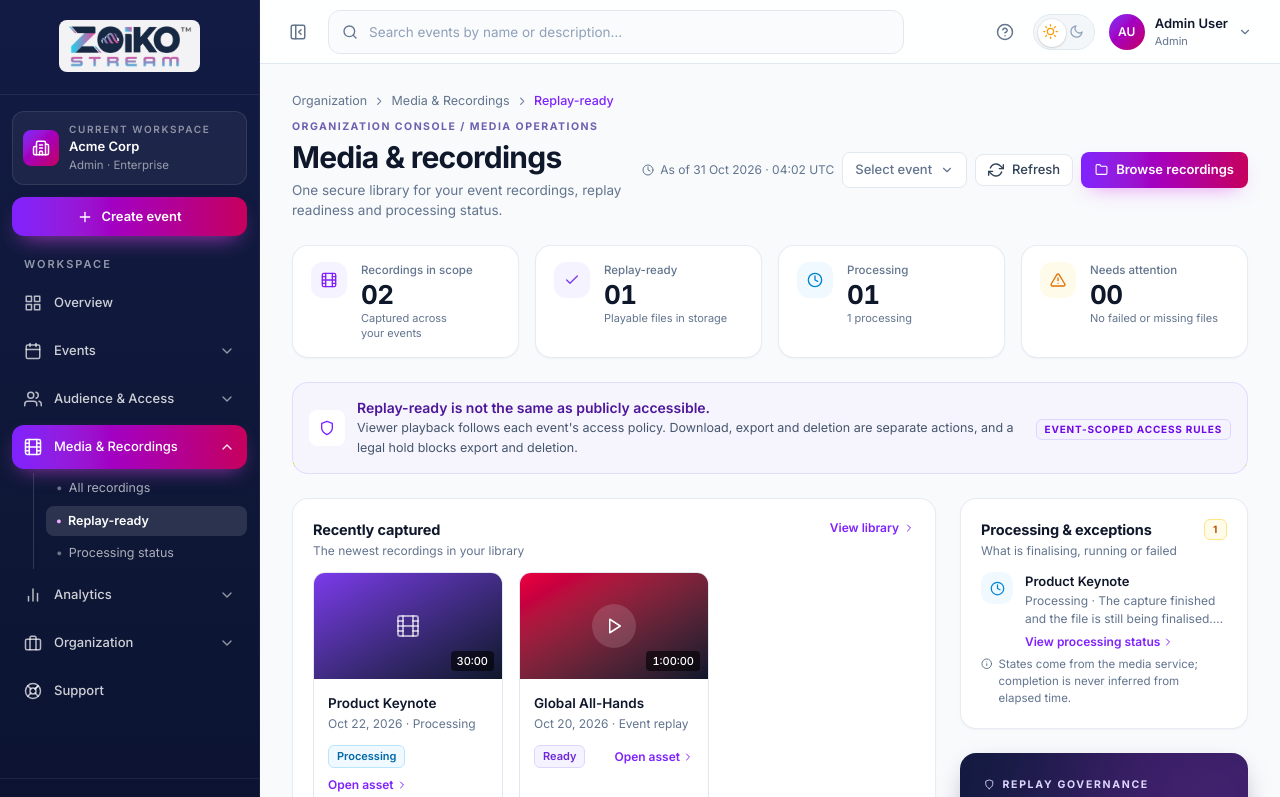
Scenario: Media & Recordings Parent and Child Navigation › clicking breadcrumb Media & Recordings resets view and filters
Expected: the heading "Media & recordings" is shown, [292,138,562,174]
Click the 1st link "Media & Recordings" at (451, 100), box [392,93,510,108]
(page scrolled)
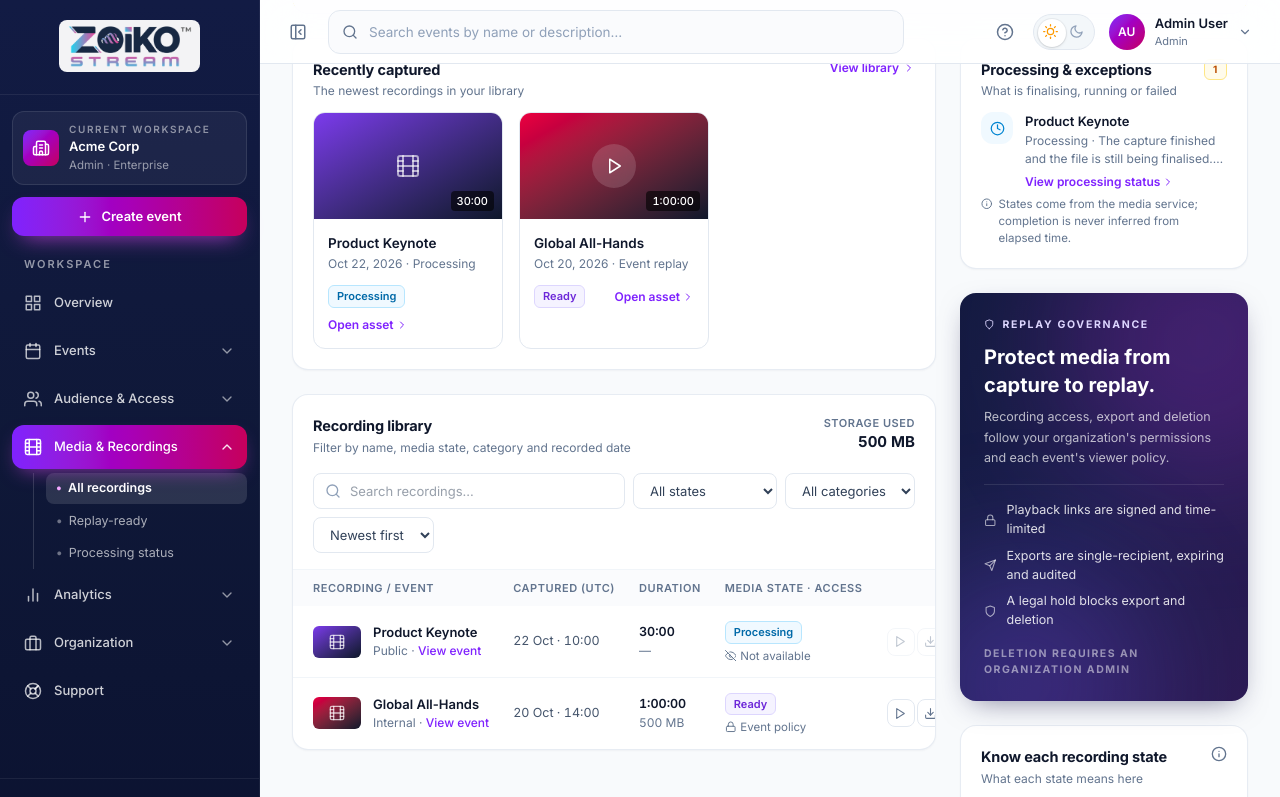
Expected: the dropdown named "Filter by state" shows "All states", [633,473,777,509]
Expected: the search field labelled "Search recordings" is empty, [313,473,625,509]
